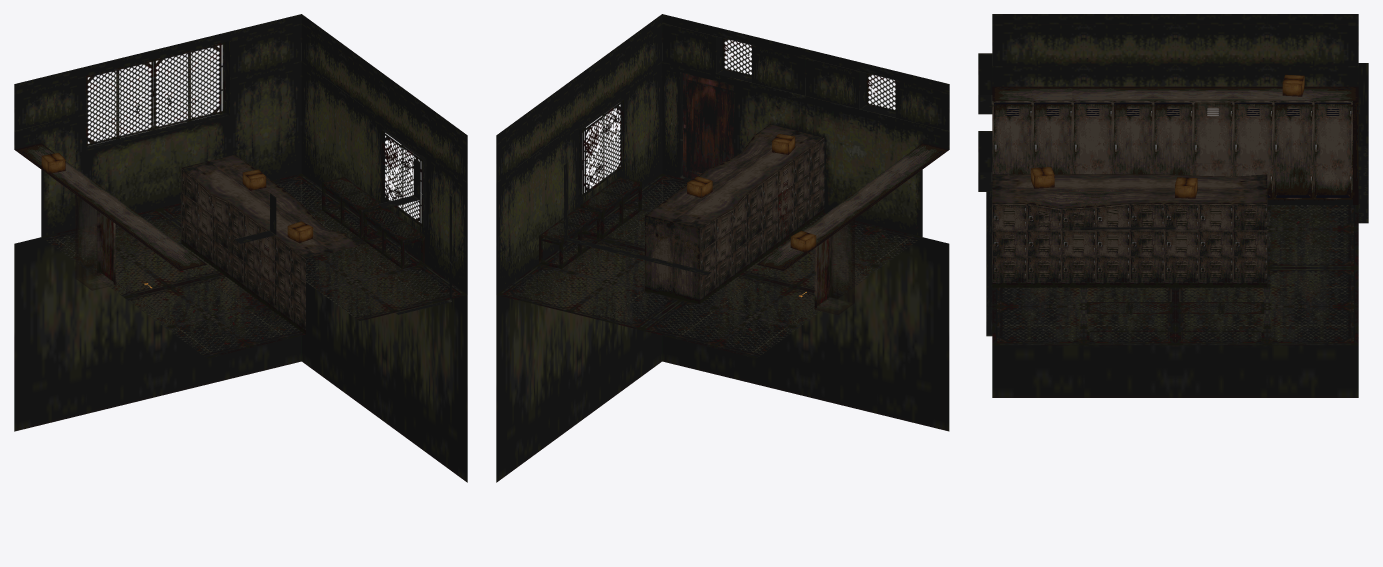
Rendered from SUFE00.glb.
3 views of the same model, side by side, from view 1: azimuth 30°, elevation 25°; view 2: azimuth 150°, elevation 25°; view 3: azimuth 270°, elevation 25° (orthographic). The views are drawn at different scales.
Visible parts, largest first — view 1: NULL_m4, SITA_HID#3_m0, SITA_HID#2_m0, NULL_m0, NULL_m6, NULL_m3, NULL_m7, HAKO2_HI_m0, ISU_HIDE_m0, ISU_HIDE#1_m0, TOBIRA2__m0, NULL_m1; view 2: SITA_HID#1_m0, SITA_HID#2_m0, NULL_m0, NULL_m2, NULL_m6, NULL_m3, NULL_m1, NULL_m7, HAKO2_HI_m0, ISU_HIDE_m0, ISU_HIDE#1_m0, TOBIRA2__m0 (+1 smaller); view 3: SITA_HID_m0, NULL_m7, NULL_m3, NULL_m1, NULL_m6, TOBIRA2__m0, NULL_m4, ISU_HIDE_m0, ISU_HIDE#1_m0, NULL_m2, NULL_m0, BOX_HIDE#1_m0 (+2 smaller).
Boxes of the visible parts, left/top/right/bottom form: NULL_m4: left=14, top=14, right=301, bottom=236; SITA_HID#3_m0: left=14, top=176, right=301, bottom=431; SITA_HID#2_m0: left=301, top=177, right=467, bottom=482; NULL_m0: left=259, top=14, right=467, bottom=294; NULL_m6: left=41, top=173, right=466, bottom=358; NULL_m3: left=181, top=154, right=360, bottom=334; NULL_m7: left=14, top=143, right=206, bottom=270; HAKO2_HI_m0: left=75, top=195, right=113, bottom=290; ISU_HIDE_m0: left=363, top=208, right=424, bottom=268; ISU_HIDE#1_m0: left=322, top=176, right=383, bottom=238; TOBIRA2__m0: left=97, top=210, right=115, bottom=285; NULL_m1: left=234, top=158, right=419, bottom=243; SITA_HID#1_m0: left=662, top=176, right=949, bottom=431; SITA_HID#2_m0: left=496, top=177, right=662, bottom=482; NULL_m0: left=496, top=14, right=792, bottom=294; NULL_m2: left=662, top=14, right=949, bottom=236; NULL_m6: left=497, top=173, right=922, bottom=358; NULL_m3: left=645, top=124, right=824, bottom=304; NULL_m1: left=662, top=23, right=949, bottom=130; NULL_m7: left=757, top=143, right=949, bottom=270; HAKO2_HI_m0: left=816, top=219, right=854, bottom=314; ISU_HIDE_m0: left=580, top=176, right=641, bottom=238; ISU_HIDE#1_m0: left=539, top=207, right=600, bottom=268; TOBIRA2__m0: left=814, top=235, right=833, bottom=309; SITA_HID_m0: left=992, top=205, right=1358, bottom=397; NULL_m7: left=992, top=86, right=1358, bottom=204; NULL_m3: left=992, top=174, right=1267, bottom=287; NULL_m1: left=978, top=14, right=1358, bottom=191; NULL_m6: left=992, top=205, right=1358, bottom=345; TOBIRA2__m0: left=1194, top=102, right=1230, bottom=176; NULL_m4: left=1358, top=63, right=1368, bottom=223; ISU_HIDE_m0: left=1086, top=302, right=1172, bottom=341; ISU_HIDE#1_m0: left=1178, top=302, right=1264, bottom=341; NULL_m2: left=986, top=192, right=992, bottom=336; NULL_m0: left=1083, top=101, right=1232, bottom=229; BOX_HIDE#1_m0: left=1031, top=167, right=1054, bottom=188.
Size of the model in its own units: 6.4 by 7.4 by 6.81.
Materials: 14 (14 with a texture image).
